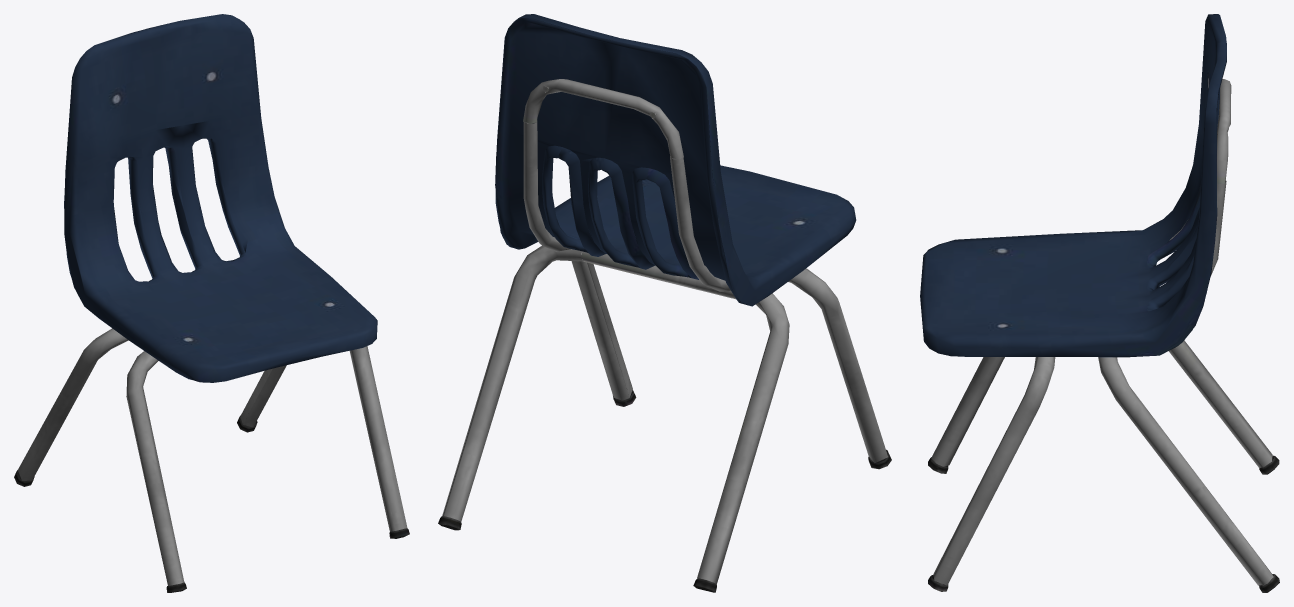
The model's file is ph_SchoolChair_01.glb.
3 renders of one model, left to right at view 1: azimuth 30°, elevation 25°; view 2: azimuth 150°, elevation 25°; view 3: azimuth 270°, elevation 25°, orthographic. The views are drawn at different scales.
Parts seen in each view (by area): view 1: SchoolChair_01; view 2: SchoolChair_01; view 3: SchoolChair_01.
Part boxes in pixels (bbox=[...]): SchoolChair_01: bbox=[14, 14, 409, 592]; SchoolChair_01: bbox=[438, 14, 891, 592]; SchoolChair_01: bbox=[920, 14, 1279, 592].
Bounding box in the file's own units: 0.5664 × 1.01 × 0.6776.
1 material, 1 textured.
